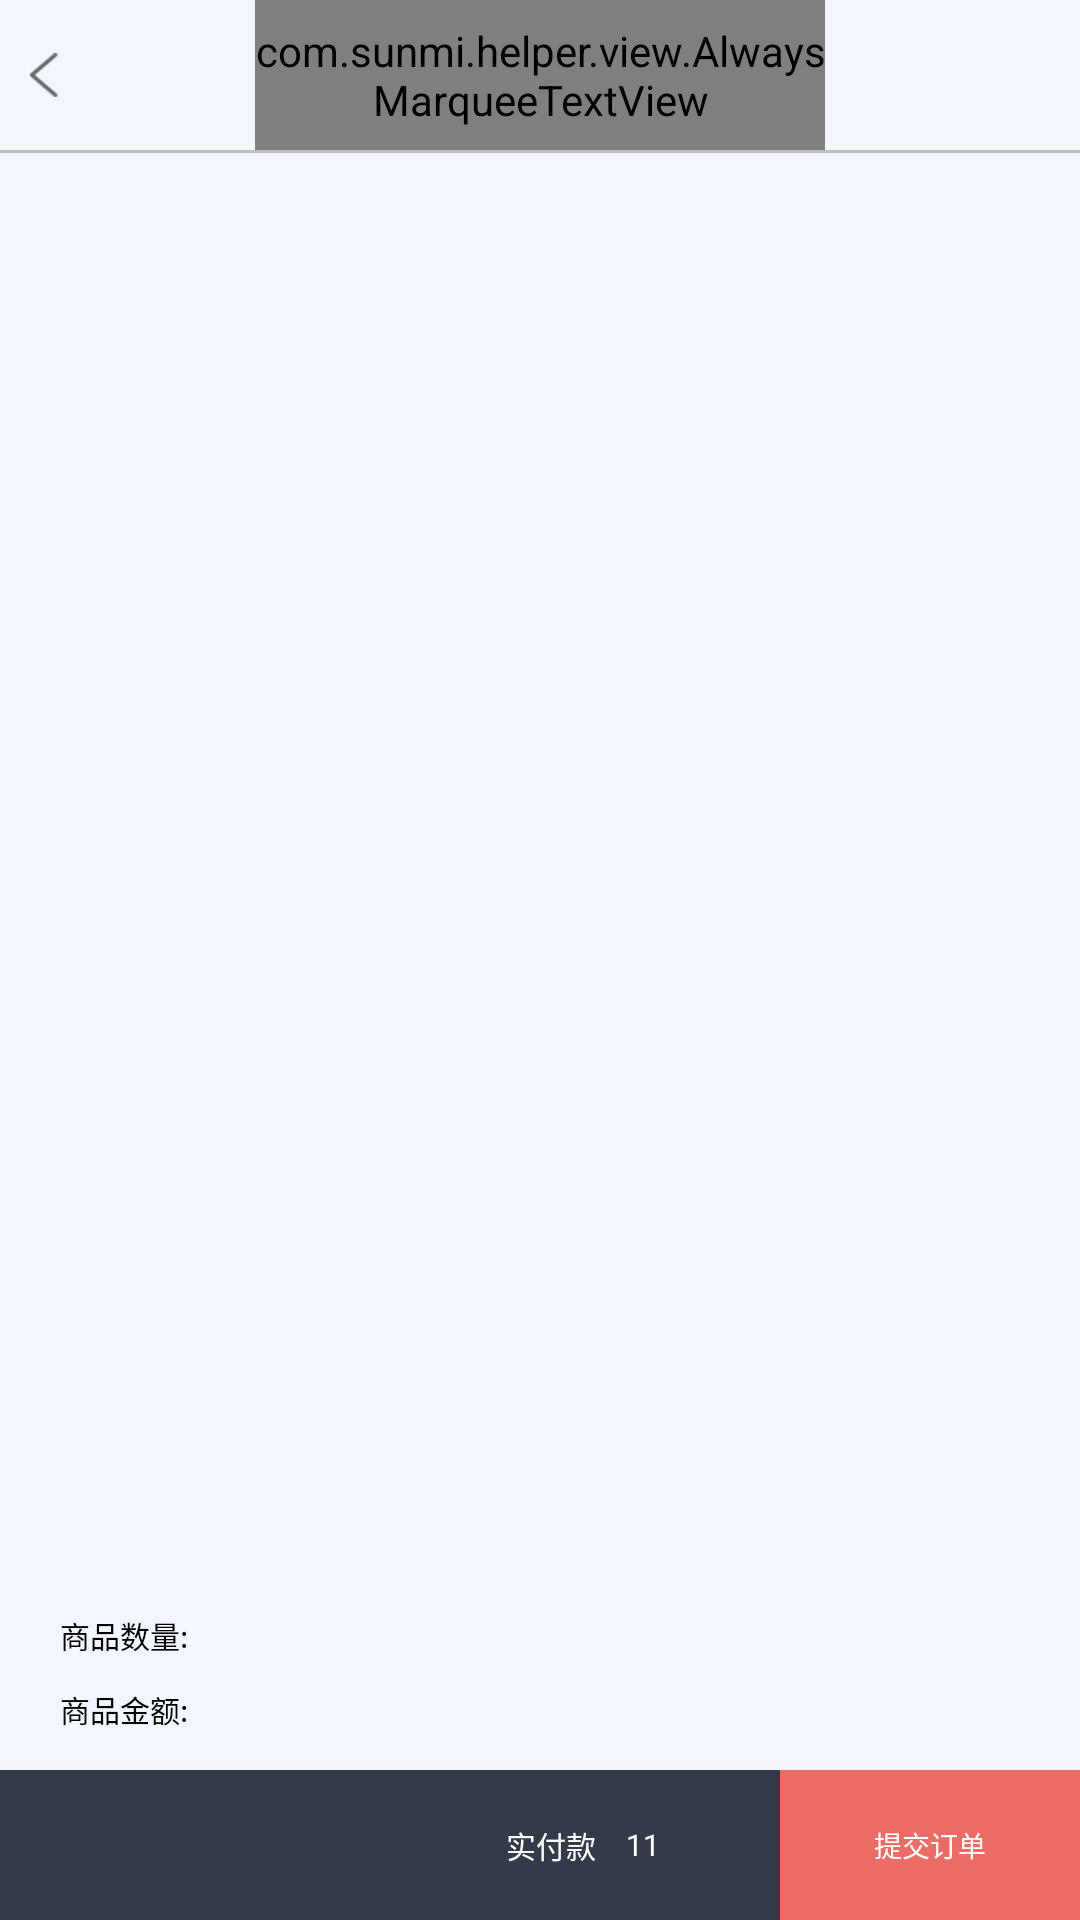

Icon click points for this 1080 × 1920 phone screenshot, format (x=x, y=y):
prosale back: (x=44, y=75)
